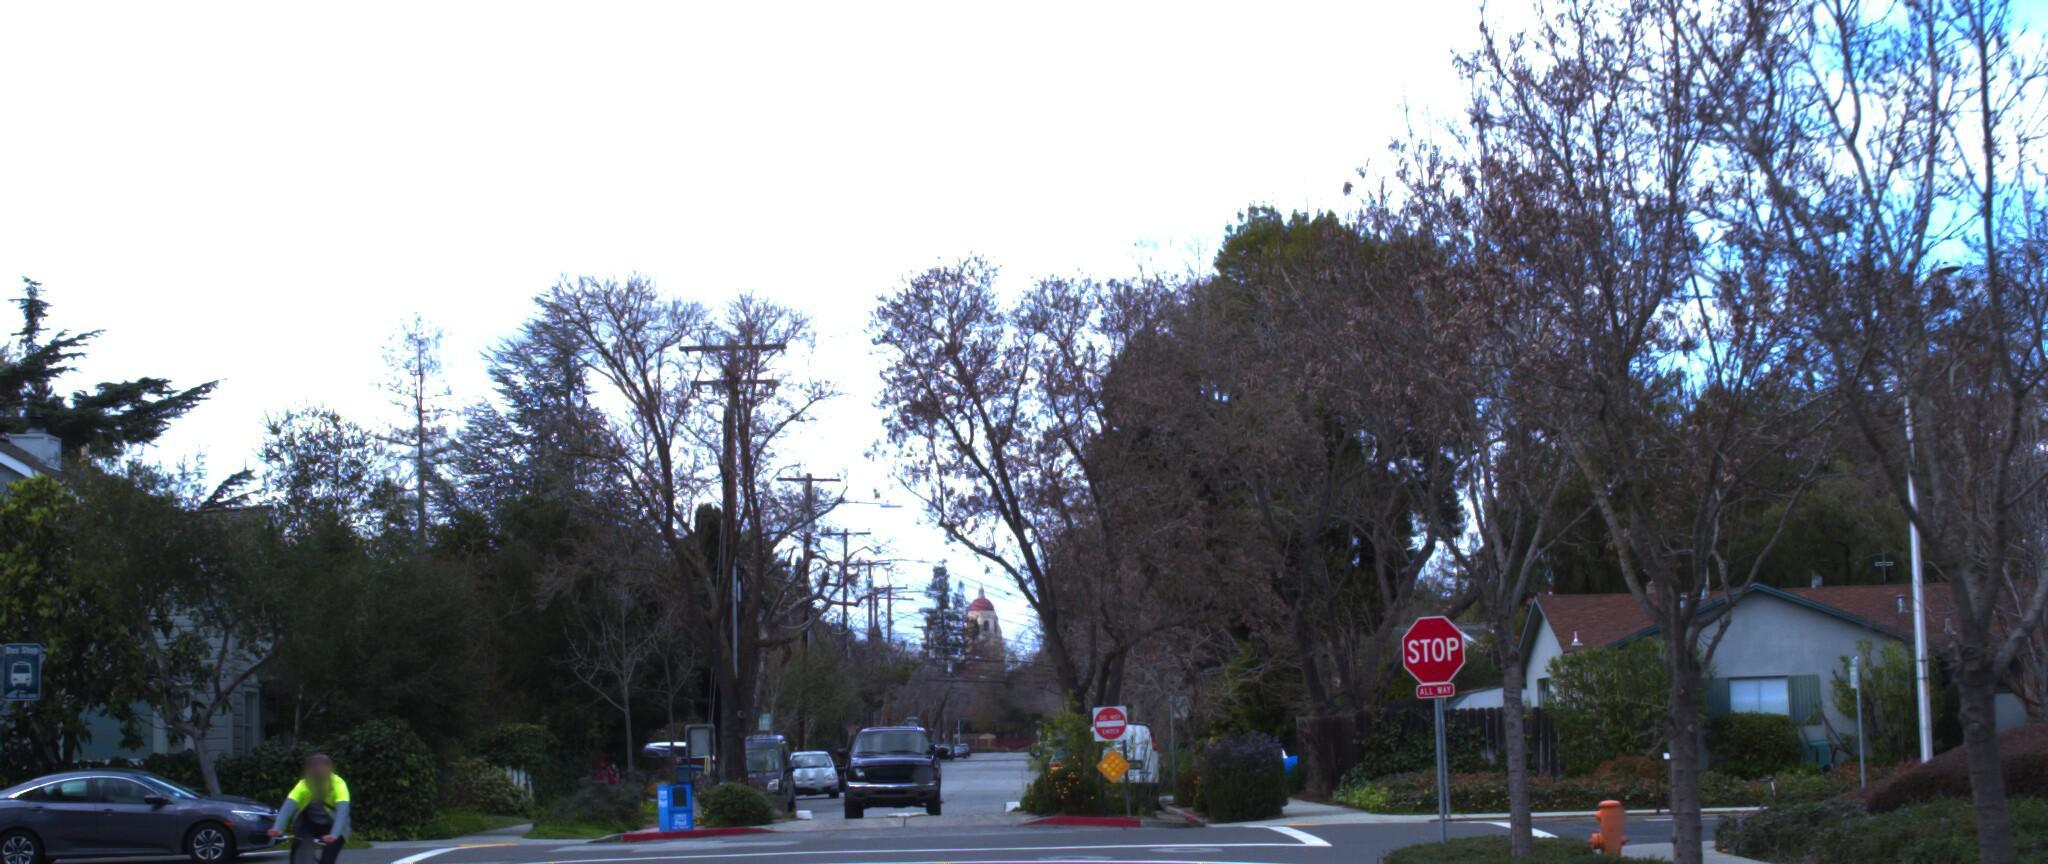bicycle: (240, 754, 409, 864)
car: (0, 752, 287, 864), (829, 707, 956, 810)
